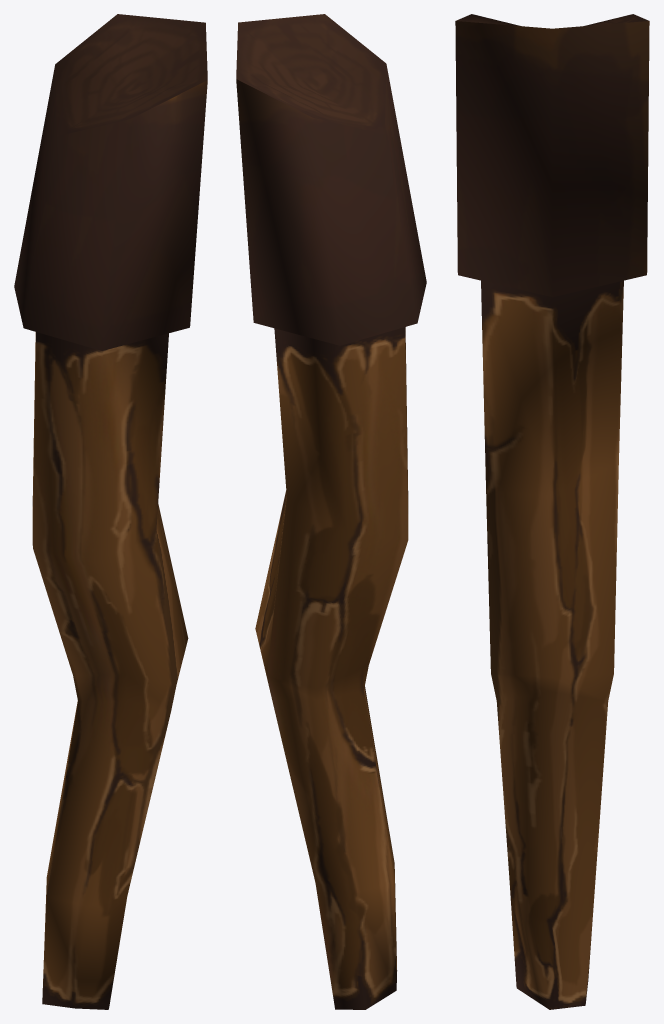
File: Torch_2.fbx
3 renders of one model, left to right at view 1: azimuth 30°, elevation 25°; view 2: azimuth 150°, elevation 25°; view 3: azimuth 270°, elevation 25°, orthographic. The views are drawn at different scales.
Parts seen in each view (by area): view 1: Cylinder; view 2: Cylinder; view 3: Cylinder.
Part boxes in pixels (<box>): Cylinder: <box>14,14,207,1009</box>; Cylinder: <box>236,14,426,1009</box>; Cylinder: <box>455,14,649,1009</box>.
Bounding box in the file's own units: 208 × 1052 × 178.
1 material, 1 textured.
